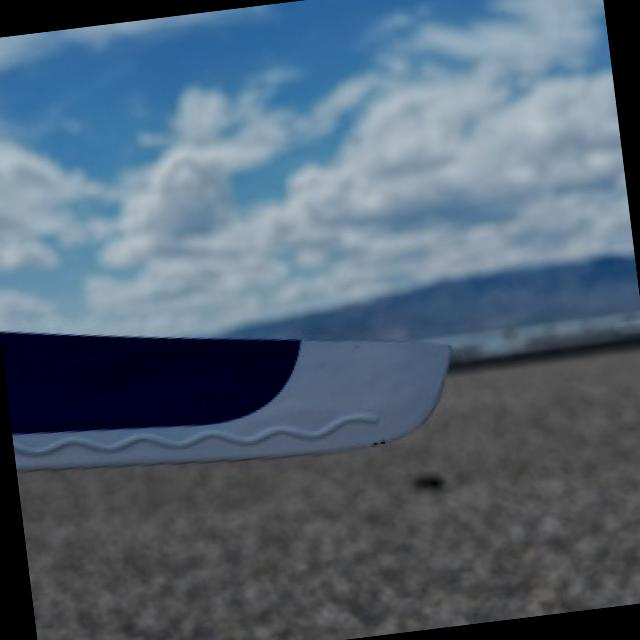healthy: (3, 331, 446, 467)
